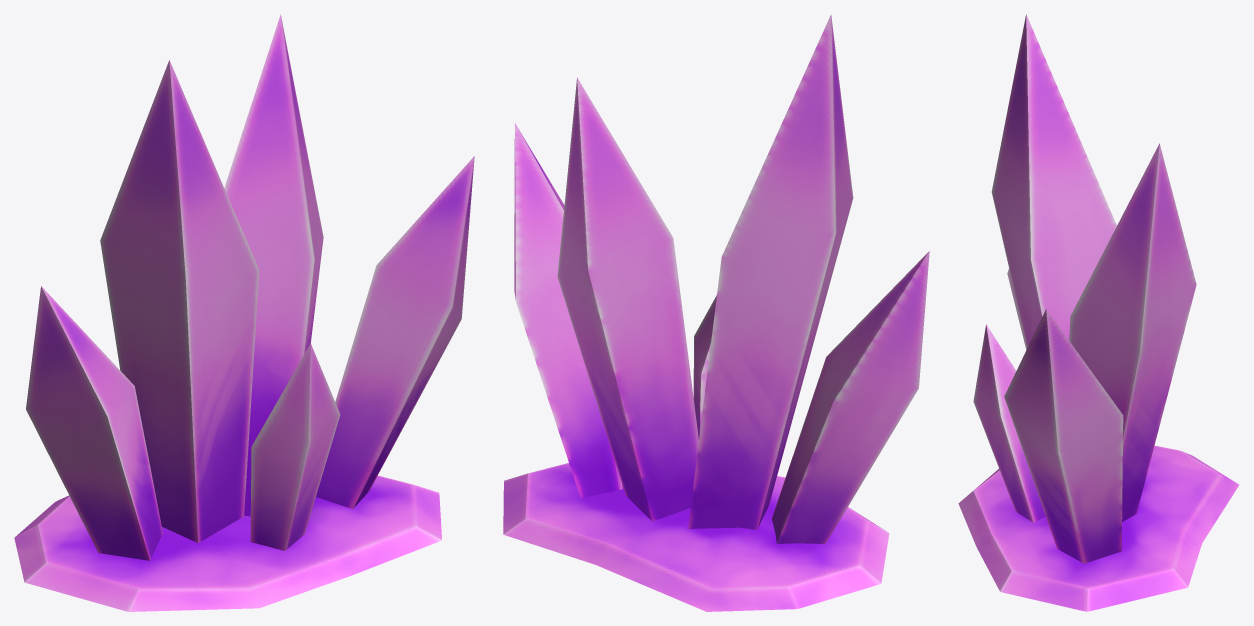
File: Violet_Crystal.FBX
3 renders of one model, left to right at view 1: azimuth 30°, elevation 25°; view 2: azimuth 150°, elevation 25°; view 3: azimuth 270°, elevation 25°, orthographic. The views are drawn at different scales.
Visible parts, largest first — view 1: Crystal_Violet_Part04, Crystal_Violet_Patch, Crystal_Violet_Part05, Crystal_Violet_Part02, Crystal_Violet_Part01, Crystal_Violet_Part03; view 2: Crystal_Violet_Part04, Crystal_Violet_Part02, Crystal_Violet_Patch, Crystal_Violet_Part01, Crystal_Violet_Part05, Crystal_Violet_Part03; view 3: Crystal_Violet_Part02, Crystal_Violet_Patch, Crystal_Violet_Part04, Crystal_Violet_Part05, Crystal_Violet_Part03.
Boxes of the visible parts, x1,y1,x2,y2 form: Crystal_Violet_Part04: (100, 60, 259, 542); Crystal_Violet_Patch: (14, 475, 441, 611); Crystal_Violet_Part05: (316, 156, 474, 508); Crystal_Violet_Part02: (224, 14, 323, 516); Crystal_Violet_Part01: (26, 286, 162, 560); Crystal_Violet_Part03: (250, 343, 340, 550); Crystal_Violet_Part04: (688, 14, 853, 530); Crystal_Violet_Part02: (557, 77, 698, 521); Crystal_Violet_Patch: (503, 463, 889, 611); Crystal_Violet_Part01: (771, 251, 929, 543); Crystal_Violet_Part05: (514, 123, 622, 498); Crystal_Violet_Part03: (693, 295, 716, 439); Crystal_Violet_Part02: (1069, 143, 1196, 521); Crystal_Violet_Patch: (958, 445, 1239, 611); Crystal_Violet_Part04: (991, 14, 1116, 347); Crystal_Violet_Part05: (1004, 309, 1123, 563); Crystal_Violet_Part03: (973, 324, 1045, 522).
Bounding box in the file's own units: 12.7 × 15.46 × 8.12.
1 material, 1 textured.
